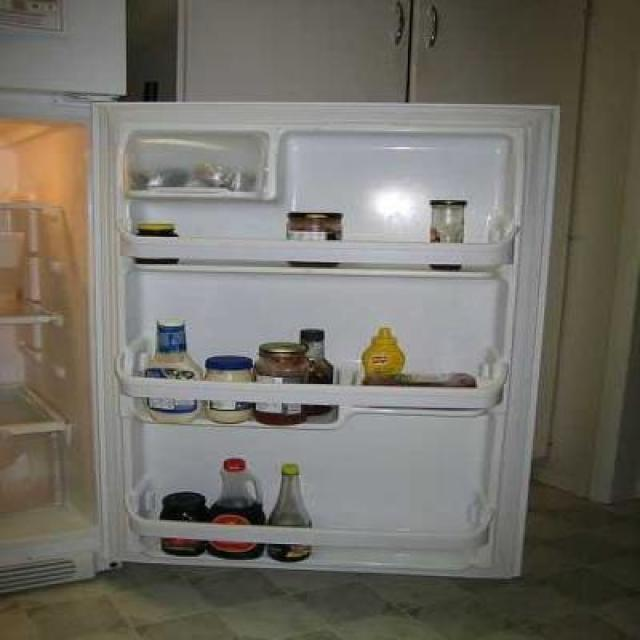refrigerator: (0, 107, 530, 587)
